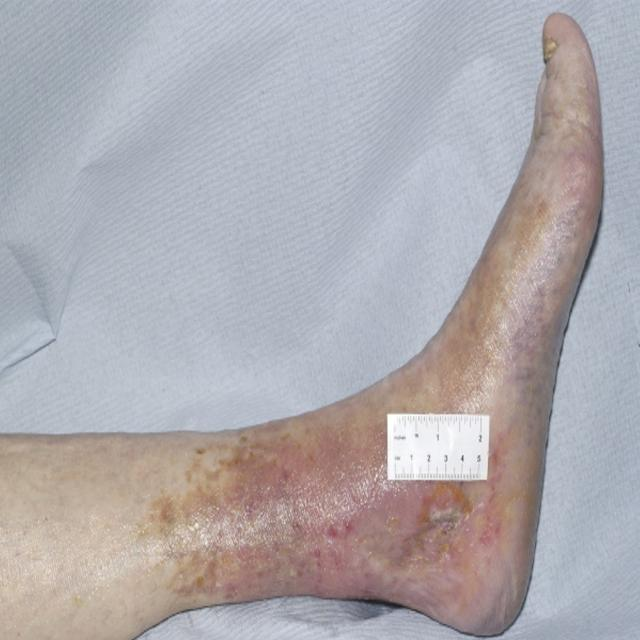wound: (331, 485, 479, 588)
